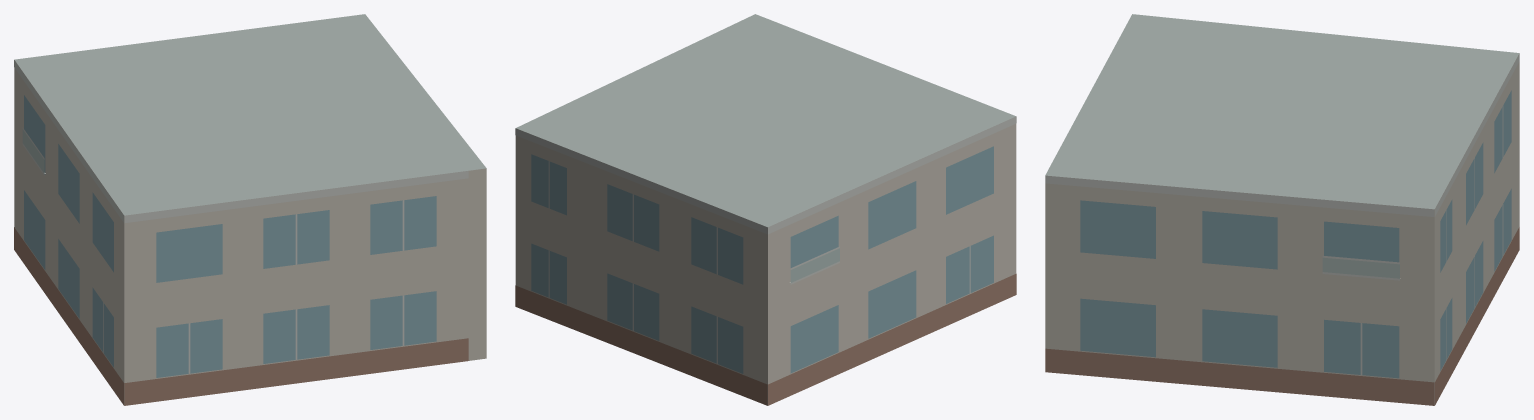
The model's file is survey-upis-32798326.glb.
3 views of the same model, side by side, from view 1: azimuth 30°, elevation 25°; view 2: azimuth 150°, elevation 25°; view 3: azimuth 270°, elevation 25° (orthographic). The views are drawn at different scales.
Parts seen in each view (by area): view 1: survey-upis-32798326.tmp; view 2: survey-upis-32798326.tmp; view 3: survey-upis-32798326.tmp.
Part boxes in pixels (x1,y1,x2,y2): survey-upis-32798326.tmp: [14, 14, 486, 405]; survey-upis-32798326.tmp: [515, 14, 1016, 405]; survey-upis-32798326.tmp: [1045, 14, 1519, 405].
Bounding box in the file's own units: 13.01 × 6.1 × 13.35.
